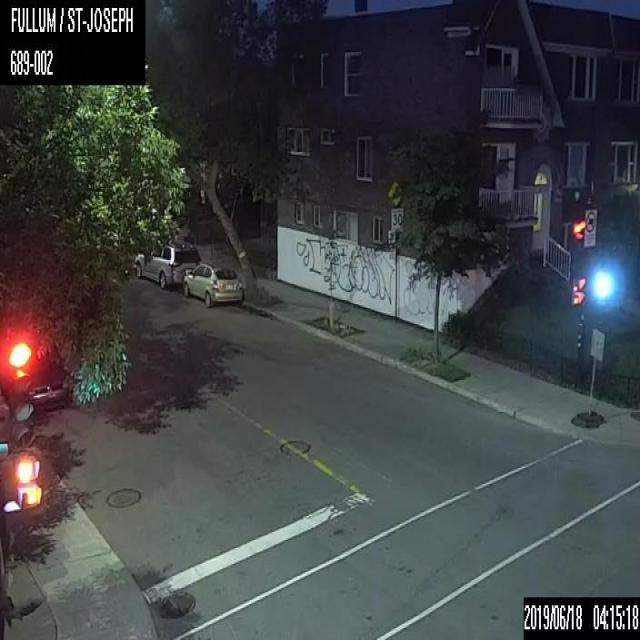construction: (574, 325, 606, 427)
vehicle: (134, 239, 200, 289), (12, 355, 72, 408), (182, 260, 245, 308)
